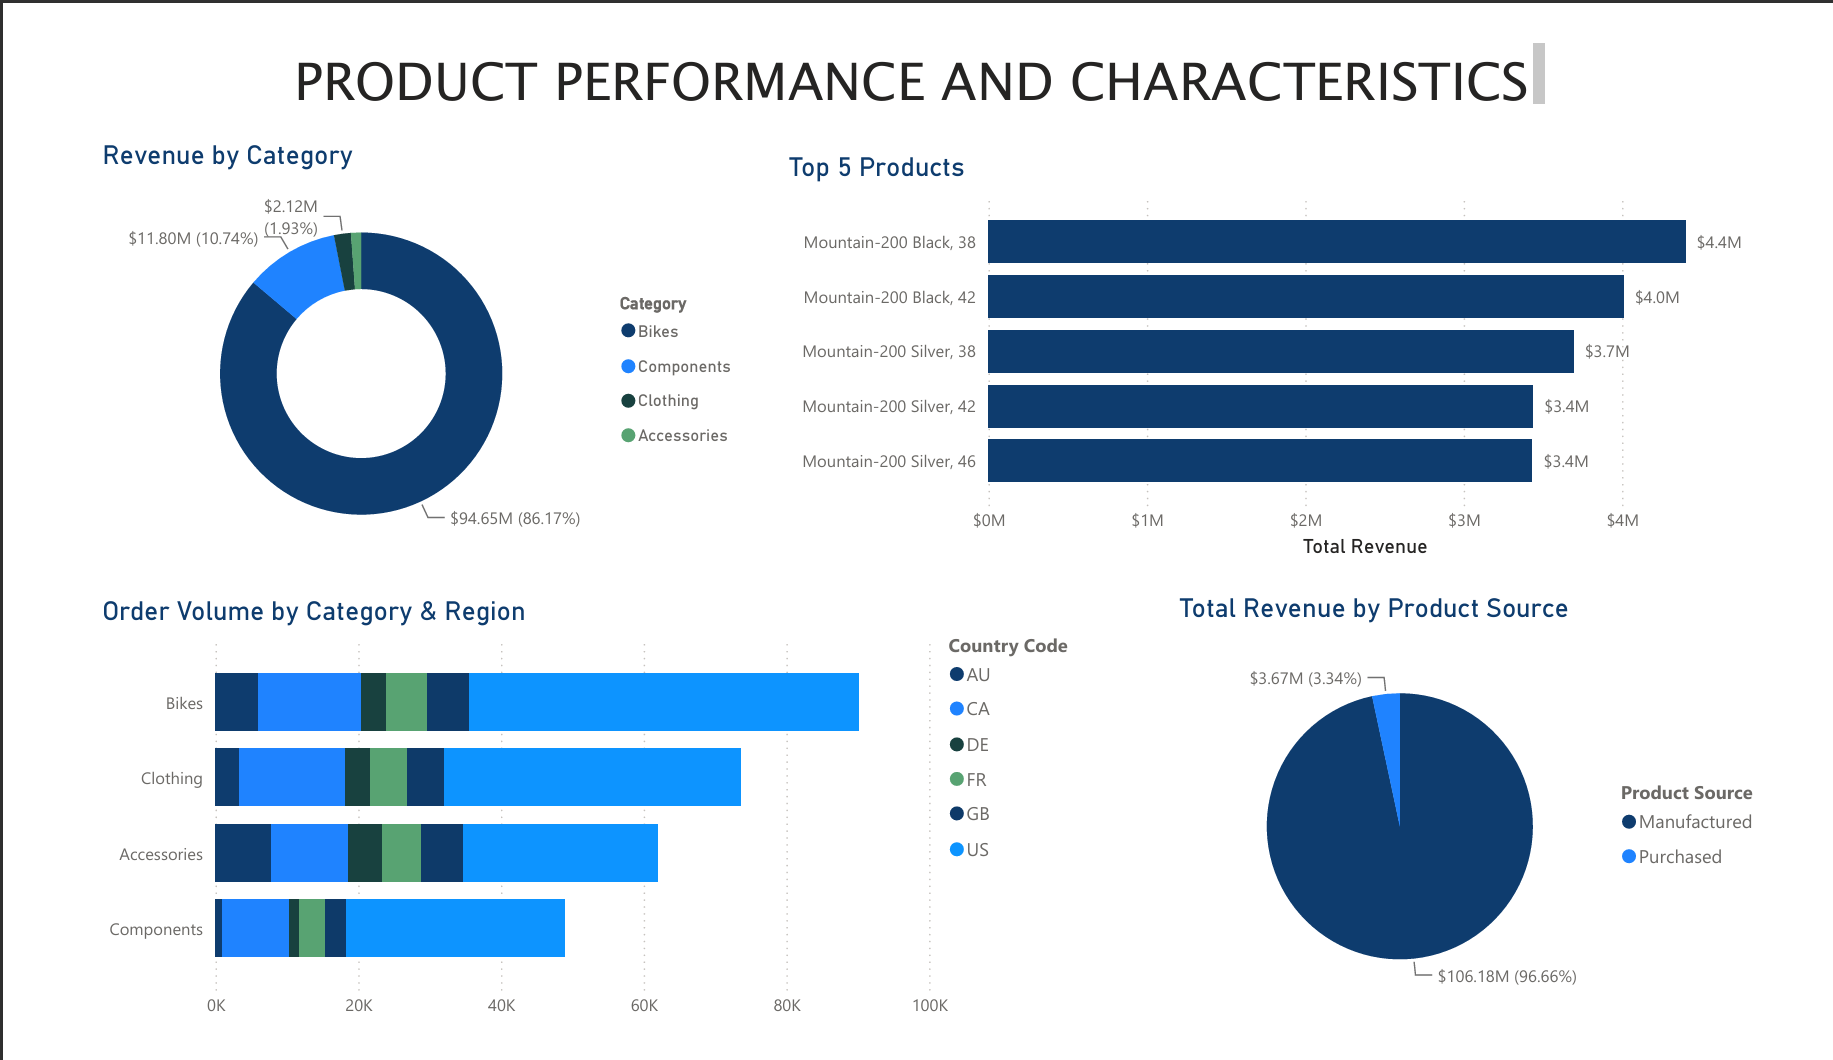

The dashboard page shown, as its layout file describes it:
{"tool":"powerbi","page":{"name":"Page 2","canvas":[1280,720],"ordinal":1},"visuals":[{"type":"donutChart","title":"Revenue by Category","fields":{"Y":["Sum(AW SalesLine.LineTotal)"],"Category":["AW ProductCategory.Name"]},"box":[43.3,75,475,316.7],"z":0},{"type":"textbox","box":[181.7,0,916.7,60],"z":1000},{"type":"clusteredBarChart","title":"Top 5 Products","fields":{"Category":["AW Products.Name"],"Y":["AW SalesLine.Total Revenue"]},"box":[540,83.3,713.3,298.3],"z":2000},{"type":"pieChart","fields":{"Category":["AW Products.Product Source"],"Y":["AW SalesLine.Total Revenue"]},"box":[823.3,403.3,441.7,316.7],"z":3000},{"type":"barChart","title":"Order Volume by Category & Region","fields":{"Category":["AW ProductCategory.Name"],"Series":["AW SalesTerritory.CountryRegionCode"],"Y":["Sum(AW SalesLine.OrderQty)"]},"box":[43.3,405,726.7,315],"z":4000}]}

Visuals, with their boxes in screenshot pixels (x1, y1, x2, y2), scaled from the page's 1280x720 canvas onto the 1833x1060 screenshot:
"Revenue by Category" donutChart: locate(62, 110, 742, 577)
textbox: locate(260, 0, 1573, 88)
"Top 5 Products" clusteredBarChart: locate(773, 123, 1795, 562)
pieChart - AW Products.Product Source x AW SalesLine.Total Revenue: locate(1179, 594, 1812, 1059)
"Order Volume by Category & Region" barChart: locate(62, 596, 1103, 1059)
